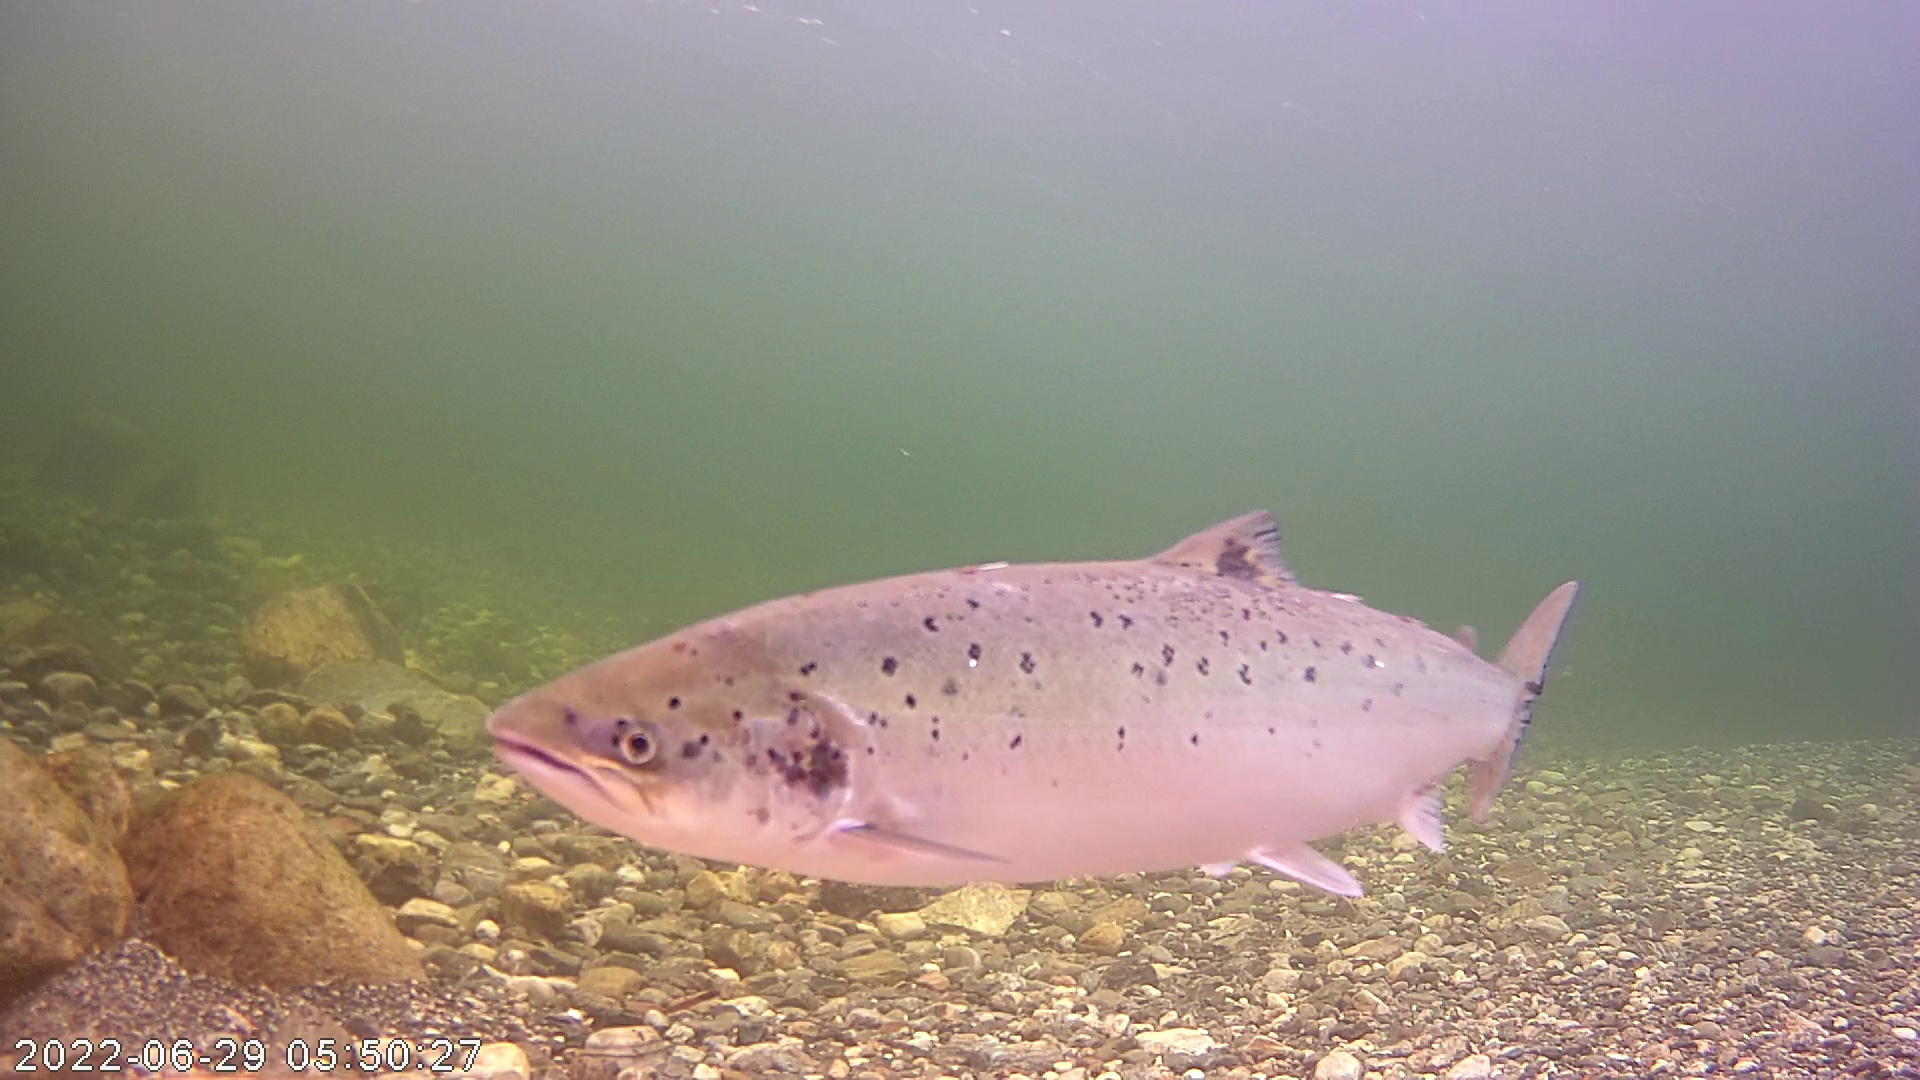salmon: (533, 400, 1578, 913)
